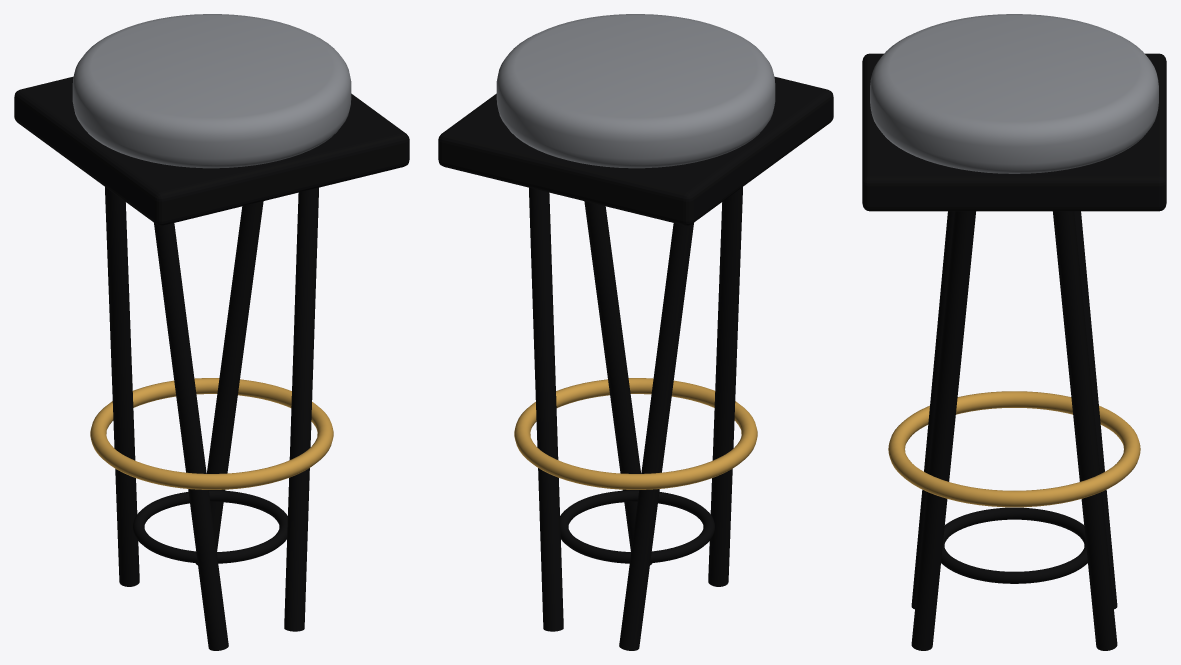
Rendered from modern_bar_stool.obj.
3 views of the same model, side by side, from view 1: azimuth 30°, elevation 25°; view 2: azimuth 150°, elevation 25°; view 3: azimuth 270°, elevation 25° (orthographic). The views are drawn at different scales.
Parts seen in each view (by area): view 1: seat, seat_frame, leg.003, leg.002, leg.001, footrest, leg, stretcher; view 2: seat, seat_frame, leg, leg.001, leg.002, footrest, leg.003, stretcher; view 3: seat, seat_frame, leg, leg.003, footrest, stretcher, leg.001, leg.002.
Part boxes in pixels (box(x1,y1,x2,y2)): seat: box(72, 14, 351, 168); seat_frame: box(14, 76, 409, 225); leg.003: box(284, 187, 318, 631); leg.002: box(154, 223, 228, 650); leg.001: box(105, 187, 139, 586); footrest: box(90, 378, 333, 489); leg: box(195, 201, 263, 565); stretcher: box(133, 490, 287, 563); seat: box(496, 14, 775, 168); seat_frame: box(438, 76, 833, 225); leg: box(529, 187, 563, 631); leg.001: box(619, 223, 693, 650); leg.002: box(708, 187, 742, 586); footrest: box(514, 378, 757, 489); leg.003: box(584, 201, 652, 565); stretcher: box(560, 490, 714, 563); seat: box(870, 14, 1158, 173); seat_frame: box(862, 53, 1166, 211); leg: box(1053, 211, 1117, 650); leg.003: box(911, 211, 975, 650); footrest: box(888, 391, 1140, 507); stretcher: box(941, 507, 1087, 583); leg.001: box(1074, 211, 1117, 609); leg.002: box(911, 211, 954, 609).
Bounding box in the file's own units: 0.4 × 0.8115 × 0.4.
